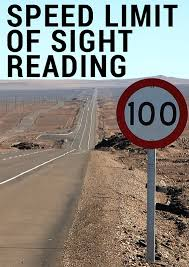Speed_limit_100km: (115, 76, 188, 150)
